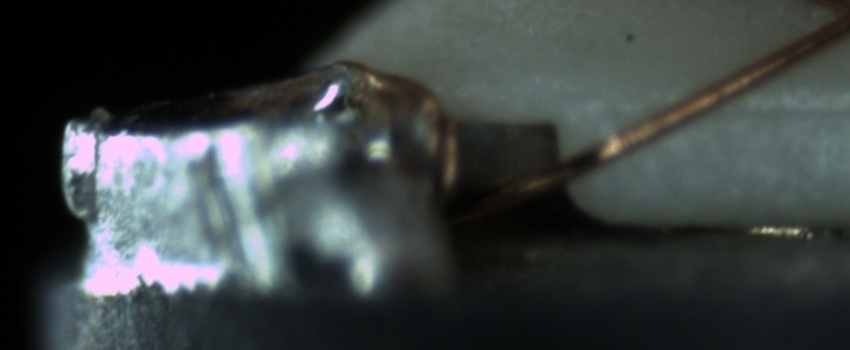DL: (703, 81, 849, 145)
TE: (356, 54, 460, 221)
